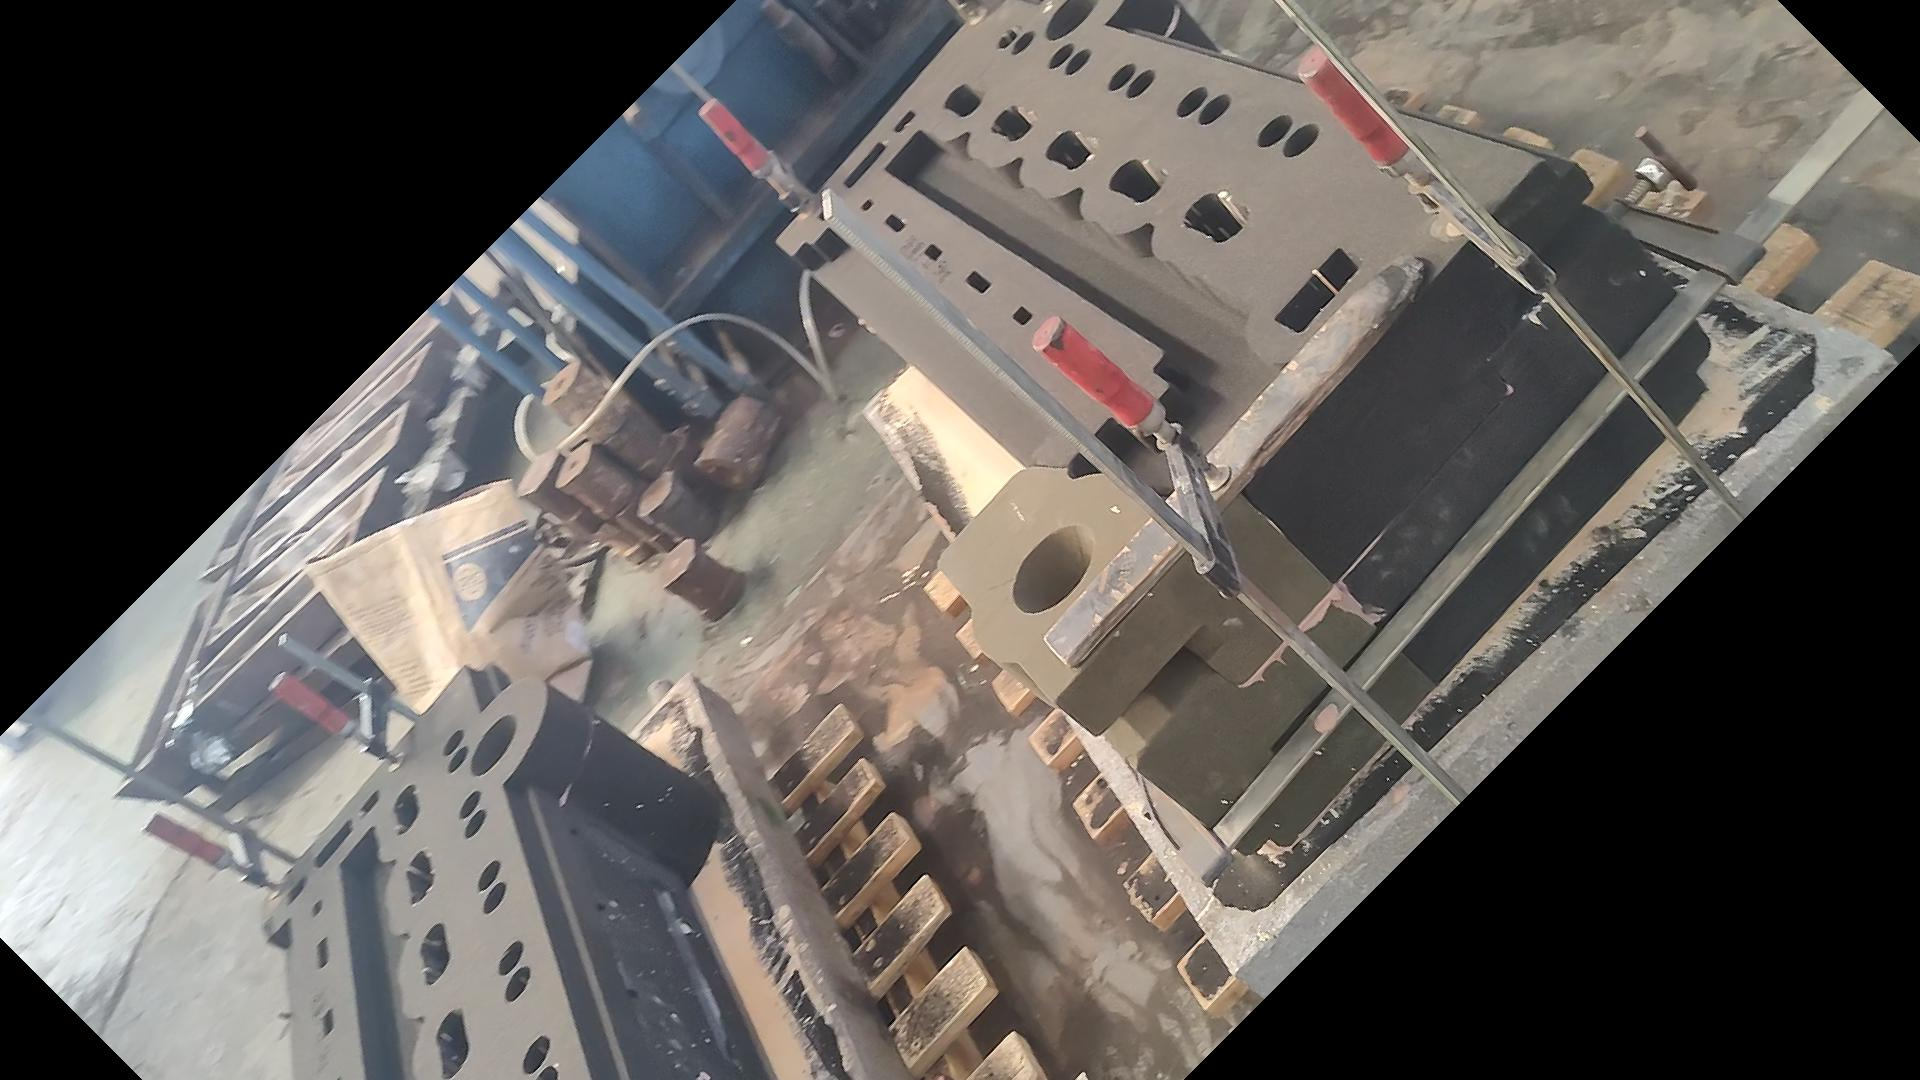pouring hole: (1011, 522, 1095, 615), (469, 711, 520, 777), (1044, 1, 1100, 41)
